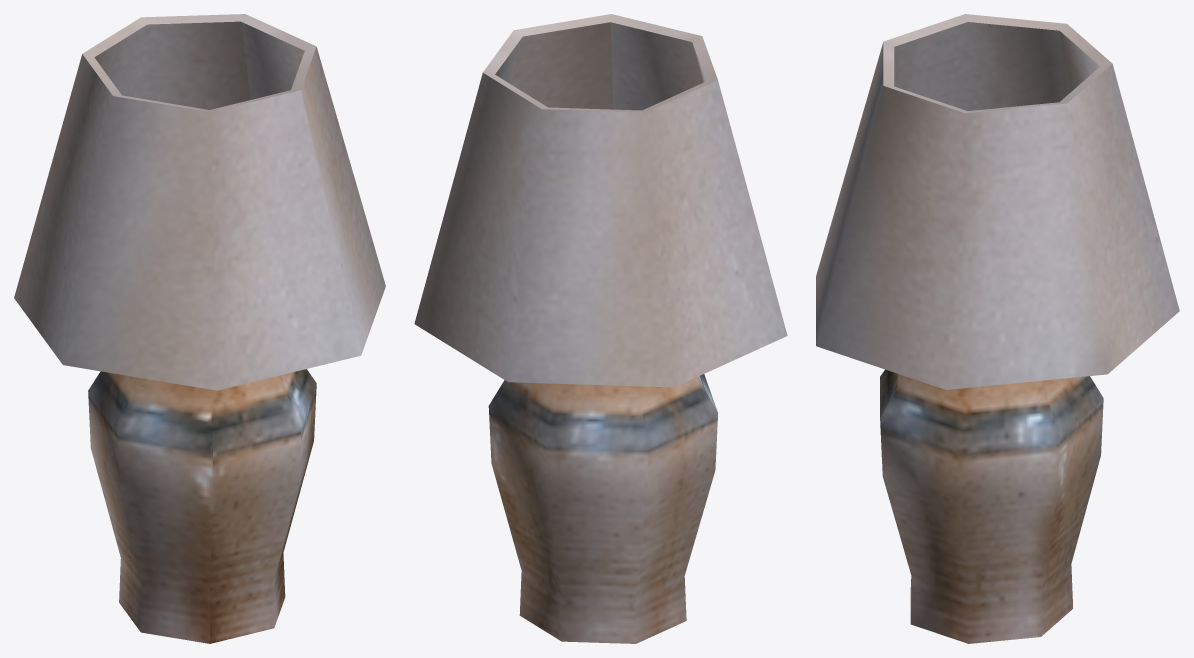
Rendered from Desk_lamp-col.glb.
The picture shows the model from 3 angles, left to right: view 1: azimuth 30°, elevation 25°; view 2: azimuth 150°, elevation 25°; view 3: azimuth 270°, elevation 25°; orthographic projection.
Visible parts, largest first — view 1: Desk_lamp-col; view 2: Desk_lamp-col; view 3: Desk_lamp-col.
Part boxes in pixels (left/top/right/bottom): Desk_lamp-col: left=14, top=14, right=385, bottom=643; Desk_lamp-col: left=414, top=14, right=787, bottom=643; Desk_lamp-col: left=816, top=14, right=1179, bottom=643.
Bounding box in the file's own units: 1.11 × 1.79 × 1.08.
Materials: 1 (1 with a texture image).
